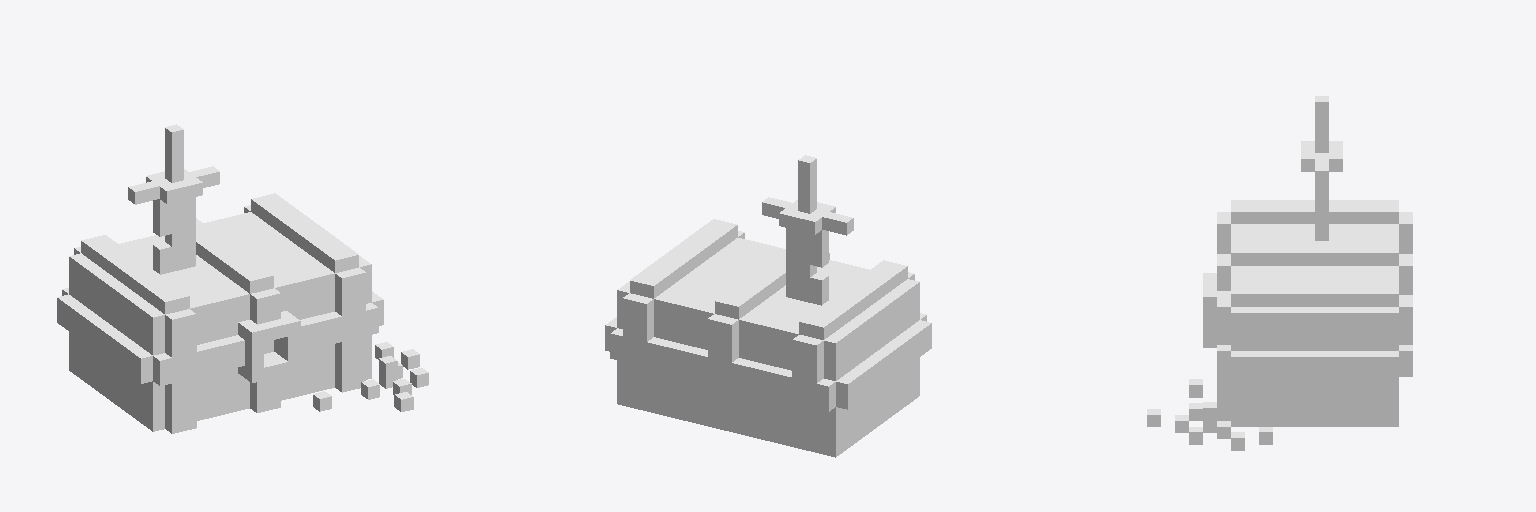
Rendered from GoldChest.obj.
3 renders of one model, left to right at view 1: azimuth 30°, elevation 25°; view 2: azimuth 150°, elevation 25°; view 3: azimuth 270°, elevation 25°, orthographic.
Parts seen in each view (by area): view 1: object 1; view 2: object 1; view 3: object 1.
Boxes of the visible parts, <box> form: object 1: <box>57,124,428,433</box>; object 1: <box>605,155,931,457</box>; object 1: <box>1147,96,1412,450</box>.
Bounding box in the file's own units: 2.3 × 2 × 1.9.